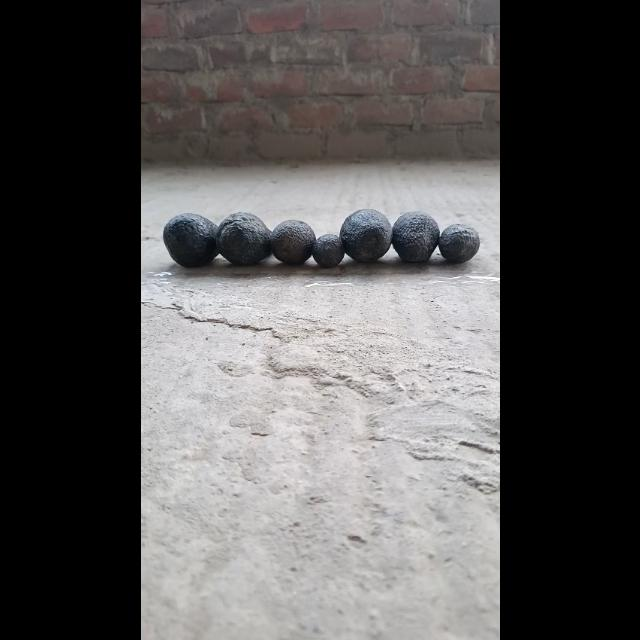Primera: (160, 212, 218, 266), (213, 212, 270, 264), (338, 209, 392, 263), (390, 210, 440, 262)
Segunda: (269, 218, 315, 264), (437, 222, 479, 264)
Tercera: (311, 234, 344, 268)
